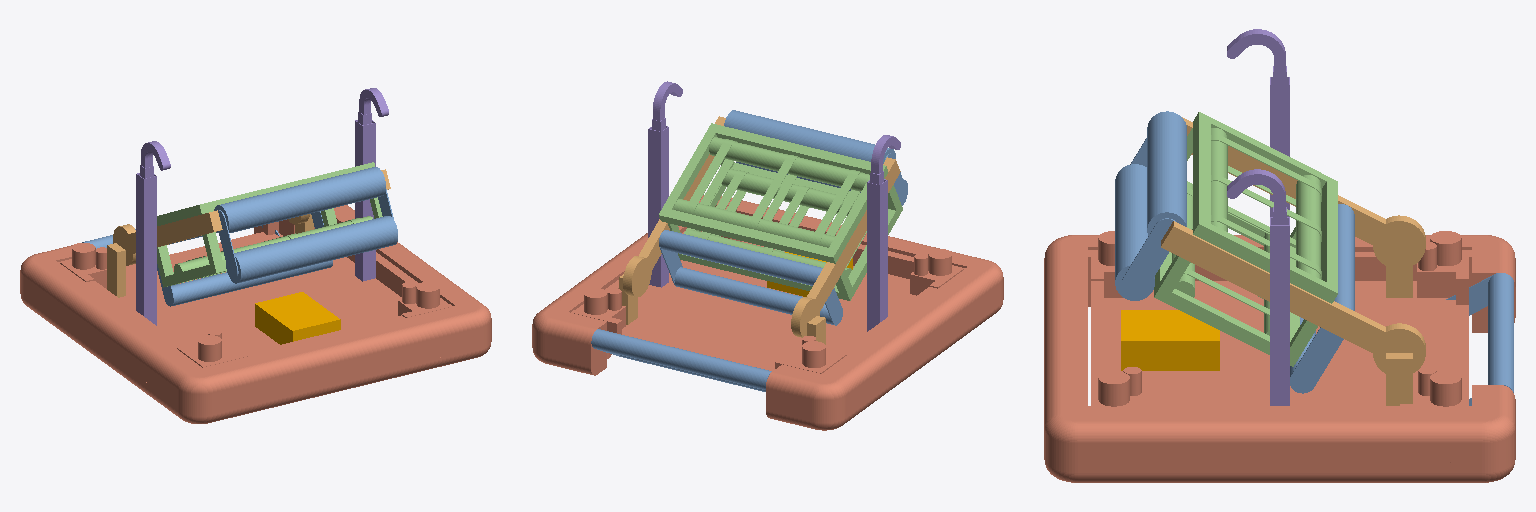
URDF robot description ([local-path]\Skynest_RPS_4328\exe\dist\Skynest_RPS_4328\my-robot):
<?xml version="1.0" ?>
<!-- Generated using onshape-to-robot -->
<!-- Onshape document_id: 8b5b6ea4aa5d45dd076e7ef6 -->
<robot name="[local-path]\Skynest_RPS_4328\exe\dist\Skynest_RPS_4328\my-robot">
  <!-- Link swerve__aac1e981ec072e04fdcf02d311d393be -->
  <link name="swerve__aac1e981ec072e04fdcf02d311d393be">
    <inertial>
      <origin xyz="1.38778e-17 -0.218734 0.03175" rpy="0 0 0"/>
      <mass value="13.2658"/>
      <inertia ixx="0.044576" ixy="0" ixz="0" iyy="0.0260324" iyz="0" izz="0.0616932"/>
    </inertial>
    <!-- Part weight -->
    <visual>
      <origin xyz="-0.06985 -0.313984 0.0635" rpy="3.14159 -0 0"/>
      <geometry>
        <mesh filename="package://assets\weight.stl"/>
      </geometry>
      <material name="weight_material">
        <color rgba="0.980392 0.713725 0.00392157 1.0"/>
      </material>
    </visual>
    <collision>
      <origin xyz="-0.06985 -0.313984 0.0635" rpy="3.14159 -0 0"/>
      <geometry>
        <mesh filename="package://assets\weight.stl"/>
      </geometry>
    </collision>
    <!-- Part generic_structure_piece__7db8c0a4a3a477c2fe3454001be9dcb5 -->
    <visual>
      <origin xyz="-0.27305 0.219416 0.0635" rpy="1.5708 -0 0"/>
      <geometry>
        <mesh filename="package://assets\generic_structure_piece__7db8c0a4a3a477c2fe3454001be9dcb5.stl"/>
      </geometry>
      <material name="generic_structure_piece__7db8c0a4a3a477c2fe3454001be9dcb5_material">
        <color rgba="0.917647 0.72549 0.490196 1.0"/>
      </material>
    </visual>
    <collision>
      <origin xyz="-0.27305 0.219416 0.0635" rpy="1.5708 -0 0"/>
      <geometry>
        <mesh filename="package://assets\generic_structure_piece__7db8c0a4a3a477c2fe3454001be9dcb5.stl"/>
      </geometry>
    </collision>
    <!-- Part swerve__2f06a5375ff9745c7beb3236907a4558 -->
    <visual>
      <origin xyz="7.35718e-18 -0.00918414 -0.06985" rpy="0 -0 0"/>
      <geometry>
        <mesh filename="package://assets\swerve__2f06a5375ff9745c7beb3236907a4558.stl"/>
      </geometry>
      <material name="swerve__2f06a5375ff9745c7beb3236907a4558_material">
        <color rgba="0.882353 0.572549 0.478431 1.0"/>
      </material>
    </visual>
    <collision>
      <origin xyz="7.35718e-18 -0.00918414 -0.06985" rpy="0 -0 0"/>
      <geometry>
        <mesh filename="package://assets\swerve__2f06a5375ff9745c7beb3236907a4558.stl"/>
      </geometry>
    </collision>
    <!-- Part horizontal_roller__fb9e0fac6f99e159a67c7bf116795558 -->
    <visual>
      <origin xyz="1.66533e-16 0.282128 -0.04445" rpy="2.61799 -8.32667e-17 -3.14159"/>
      <geometry>
        <mesh filename="package://assets\horizontal_roller__fb9e0fac6f99e159a67c7bf116795558.stl"/>
      </geometry>
      <material name="horizontal_roller__fb9e0fac6f99e159a67c7bf116795558_material">
        <color rgba="0.541176 0.682353 0.839216 1.0"/>
      </material>
    </visual>
    <collision>
      <origin xyz="1.66533e-16 0.282128 -0.04445" rpy="2.61799 -8.32667e-17 -3.14159"/>
      <geometry>
        <mesh filename="package://assets\horizontal_roller__fb9e0fac6f99e159a67c7bf116795558.stl"/>
      </geometry>
    </collision>
    <!-- Part generic_structure_piece__7db8c0a4a3a477c2fe3454001be9dcb5_2 -->
    <visual>
      <origin xyz="0.27305 0.219416 0.0635" rpy="1.5708 -0 0"/>
      <geometry>
        <mesh filename="package://assets\generic_structure_piece__7db8c0a4a3a477c2fe3454001be9dcb5.stl"/>
      </geometry>
      <material name="generic_structure_piece__7db8c0a4a3a477c2fe3454001be9dcb5_2_material">
        <color rgba="0.917647 0.72549 0.490196 1.0"/>
      </material>
    </visual>
    <collision>
      <origin xyz="0.27305 0.219416 0.0635" rpy="1.5708 -0 0"/>
      <geometry>
        <mesh filename="package://assets\generic_structure_piece__7db8c0a4a3a477c2fe3454001be9dcb5.stl"/>
      </geometry>
    </collision>
    <!-- Part stage_1__484c10e432fd6bf4e16cde51157dc6f1 -->
    <visual>
      <origin xyz="-0.3175 -0.00918414 1.01828e-15" rpy="-1.75137e-15 8.16075e-16 1.5708"/>
      <geometry>
        <mesh filename="package://assets\stage_1__484c10e432fd6bf4e16cde51157dc6f1.stl"/>
      </geometry>
      <material name="stage_1__484c10e432fd6bf4e16cde51157dc6f1_material">
        <color rgba="0.654902 0.584314 0.823529 1.0"/>
      </material>
    </visual>
    <collision>
      <origin xyz="-0.3175 -0.00918414 1.01828e-15" rpy="-1.75137e-15 8.16075e-16 1.5708"/>
      <geometry>
        <mesh filename="package://assets\stage_1__484c10e432fd6bf4e16cde51157dc6f1.stl"/>
      </geometry>
    </collision>
    <!-- Part stage_2__484c10e432fd6bf4e16cde51157dc6f1 -->
    <visual>
      <origin xyz="-0.3175 -0.00918414 3.33637e-17" rpy="-1.75137e-15 2.08505e-16 1.5708"/>
      <geometry>
        <mesh filename="package://assets\stage_2__484c10e432fd6bf4e16cde51157dc6f1.stl"/>
      </geometry>
      <material name="stage_2__484c10e432fd6bf4e16cde51157dc6f1_material">
        <color rgba="0.654902 0.584314 0.823529 1.0"/>
      </material>
    </visual>
    <collision>
      <origin xyz="-0.3175 -0.00918414 3.33637e-17" rpy="-1.75137e-15 2.08505e-16 1.5708"/>
      <geometry>
        <mesh filename="package://assets\stage_2__484c10e432fd6bf4e16cde51157dc6f1.stl"/>
      </geometry>
    </collision>
    <!-- Part stage_1__484c10e432fd6bf4e16cde51157dc6f1_2 -->
    <visual>
      <origin xyz="0.3175 -0.00918414 9.53231e-16" rpy="4.66044e-16 8.16075e-16 1.5708"/>
      <geometry>
        <mesh filename="package://assets\stage_1__484c10e432fd6bf4e16cde51157dc6f1.stl"/>
      </geometry>
      <material name="stage_1__484c10e432fd6bf4e16cde51157dc6f1_2_material">
        <color rgba="0.654902 0.584314 0.823529 1.0"/>
      </material>
    </visual>
    <collision>
      <origin xyz="0.3175 -0.00918414 9.53231e-16" rpy="4.66044e-16 8.16075e-16 1.5708"/>
      <geometry>
        <mesh filename="package://assets\stage_1__484c10e432fd6bf4e16cde51157dc6f1.stl"/>
      </geometry>
    </collision>
    <!-- Part stage_2__484c10e432fd6bf4e16cde51157dc6f1_2 -->
    <visual>
      <origin xyz="0.3175 -0.00918414 -3.33637e-17" rpy="-1.75137e-15 2.08505e-16 1.5708"/>
      <geometry>
        <mesh filename="package://assets\stage_2__484c10e432fd6bf4e16cde51157dc6f1.stl"/>
      </geometry>
      <material name="stage_2__484c10e432fd6bf4e16cde51157dc6f1_2_material">
        <color rgba="0.654902 0.584314 0.823529 1.0"/>
      </material>
    </visual>
    <collision>
      <origin xyz="0.3175 -0.00918414 -3.33637e-17" rpy="-1.75137e-15 2.08505e-16 1.5708"/>
      <geometry>
        <mesh filename="package://assets\stage_2__484c10e432fd6bf4e16cde51157dc6f1.stl"/>
      </geometry>
    </collision>
  </link>
  <!-- Link arm_segment__f3d596783f9f1a53aca529c3683d15b7 -->
  <link name="arm_segment__f3d596783f9f1a53aca529c3683d15b7">
    <inertial>
      <origin xyz="0 0 0" rpy="0 0 0"/>
      <mass value="1e-09"/>
      <inertia ixx="1e-09" ixy="0" ixz="0" iyy="1e-09" iyz="0" izz="1e-09"/>
    </inertial>
    <!-- Part arm_segment__f3d596783f9f1a53aca529c3683d15b7 -->
    <visual>
      <origin xyz="-0.254 -2.77556e-17 -0.0127" rpy="-1.5708 -1.5708 0"/>
      <geometry>
        <mesh filename="package://assets\arm_segment__f3d596783f9f1a53aca529c3683d15b7.stl"/>
      </geometry>
      <material name="arm_segment__f3d596783f9f1a53aca529c3683d15b7_material">
        <color rgba="0.917647 0.72549 0.490196 1.0"/>
      </material>
    </visual>
    <collision>
      <origin xyz="-0.254 -2.77556e-17 -0.0127" rpy="-1.5708 -1.5708 0"/>
      <geometry>
        <mesh filename="package://assets\arm_segment__f3d596783f9f1a53aca529c3683d15b7.stl"/>
      </geometry>
    </collision>
    <!-- Part configurable_ball_tunnel__94c8332c3d2a75d8e1ad241703f6312b -->
    <visual>
      <origin xyz="-0.314097 -0.0381 -0.26035" rpy="-3.14159 -1.5708 0"/>
      <geometry>
        <mesh filename="package://assets\configurable_ball_tunnel__94c8332c3d2a75d8e1ad241703f6312b.stl"/>
      </geometry>
      <material name="configurable_ball_tunnel__94c8332c3d2a75d8e1ad241703f6312b_material">
        <color rgba="0.654902 0.823529 0.576471 1.0"/>
      </material>
    </visual>
    <collision>
      <origin xyz="-0.314097 -0.0381 -0.26035" rpy="-3.14159 -1.5708 0"/>
      <geometry>
        <mesh filename="package://assets\configurable_ball_tunnel__94c8332c3d2a75d8e1ad241703f6312b.stl"/>
      </geometry>
    </collision>
    <!-- Part arm_segment__f3d596783f9f1a53aca529c3683d15b7_2 -->
    <visual>
      <origin xyz="-0.254 5.55112e-17 -0.50165" rpy="-1.5708 -1.5708 0"/>
      <geometry>
        <mesh filename="package://assets\arm_segment__f3d596783f9f1a53aca529c3683d15b7.stl"/>
      </geometry>
      <material name="arm_segment__f3d596783f9f1a53aca529c3683d15b7_2_material">
        <color rgba="0.917647 0.72549 0.490196 1.0"/>
      </material>
    </visual>
    <collision>
      <origin xyz="-0.254 5.55112e-17 -0.50165" rpy="-1.5708 -1.5708 0"/>
      <geometry>
        <mesh filename="package://assets\arm_segment__f3d596783f9f1a53aca529c3683d15b7.stl"/>
      </geometry>
    </collision>
    <!-- Part horizontal_roller__63510fac1804c212f223d5df13e26088 -->
    <visual>
      <origin xyz="-0.508 1.52656e-15 -0.257175" rpy="3.14159 1.5708 0"/>
      <geometry>
        <mesh filename="package://assets\horizontal_roller__63510fac1804c212f223d5df13e26088.stl"/>
      </geometry>
      <material name="horizontal_roller__63510fac1804c212f223d5df13e26088_material">
        <color rgba="0.541176 0.682353 0.839216 1.0"/>
      </material>
    </visual>
    <collision>
      <origin xyz="-0.508 1.52656e-15 -0.257175" rpy="3.14159 1.5708 0"/>
      <geometry>
        <mesh filename="package://assets\horizontal_roller__63510fac1804c212f223d5df13e26088.stl"/>
      </geometry>
    </collision>
    <!-- Part horizontal_roller__9351daac2b97eade60ab45f49190e71a -->
    <visual>
      <origin xyz="-0.127 -0.1524 -0.257175" rpy="2.24932e-15 -1.5708 0"/>
      <geometry>
        <mesh filename="package://assets\horizontal_roller__9351daac2b97eade60ab45f49190e71a.stl"/>
      </geometry>
      <material name="horizontal_roller__9351daac2b97eade60ab45f49190e71a_material">
        <color rgba="0.541176 0.682353 0.839216 1.0"/>
      </material>
    </visual>
    <collision>
      <origin xyz="-0.127 -0.1524 -0.257175" rpy="2.24932e-15 -1.5708 0"/>
      <geometry>
        <mesh filename="package://assets\horizontal_roller__9351daac2b97eade60ab45f49190e71a.stl"/>
      </geometry>
    </collision>
  </link>
  <!-- Joint from swerve__aac1e981ec072e04fdcf02d311d393be to arm_segment__f3d596783f9f1a53aca529c3683d15b7 -->
  <joint name="FRC_intake" type="revolute">
    <origin xyz="0.26035 0.219416 0.127" rpy="1.5708 0.504957 1.5708"/>
    <parent link="swerve__aac1e981ec072e04fdcf02d311d393be"/>
    <child link="arm_segment__f3d596783f9f1a53aca529c3683d15b7"/>
    <axis xyz="0 0 1"/>
    <limit effort="10" velocity="10" lower="-3.141592653589793" upper="3.141592653589793"/>
  </joint>
</robot>

--- Facts derived from the render (not from the file) ---
The picture shows the robot from 3 angles, left to right: view 1: azimuth 30°, elevation 25°; view 2: azimuth 150°, elevation 25°; view 3: azimuth 270°, elevation 25°; orthographic projection.
Model [local-path]\Skynest_RPS_4328\exe\dist\Skynest_RPS_4328\my-robot with 2 links and 1 joints (1 revolute), rooted at swerve__aac1e981ec072e04fdcf02d311d393be, posed all joints at 0.
Links seen in each view (by area): view 1: swerve__aac1e981ec072e04fdcf02d311d393be, arm_segment__f3d596783f9f1a53aca529c3683d15b7; view 2: swerve__aac1e981ec072e04fdcf02d311d393be, arm_segment__f3d596783f9f1a53aca529c3683d15b7; view 3: swerve__aac1e981ec072e04fdcf02d311d393be, arm_segment__f3d596783f9f1a53aca529c3683d15b7.
Boxes of the visible links, bbox=[...] form: swerve__aac1e981ec072e04fdcf02d311d393be: bbox=[20, 88, 491, 423]; arm_segment__f3d596783f9f1a53aca529c3683d15b7: bbox=[113, 162, 397, 306]; swerve__aac1e981ec072e04fdcf02d311d393be: bbox=[532, 81, 1003, 430]; arm_segment__f3d596783f9f1a53aca529c3683d15b7: bbox=[623, 110, 907, 337]; swerve__aac1e981ec072e04fdcf02d311d393be: bbox=[1044, 29, 1515, 482]; arm_segment__f3d596783f9f1a53aca529c3683d15b7: bbox=[1115, 111, 1425, 393].
Bounding box of the posed robot: 0.9017 × 0.9017 × 0.6064 m (x, y, z).
14 mesh visuals loaded from 10 distinct referenced files (10 binary STL).
